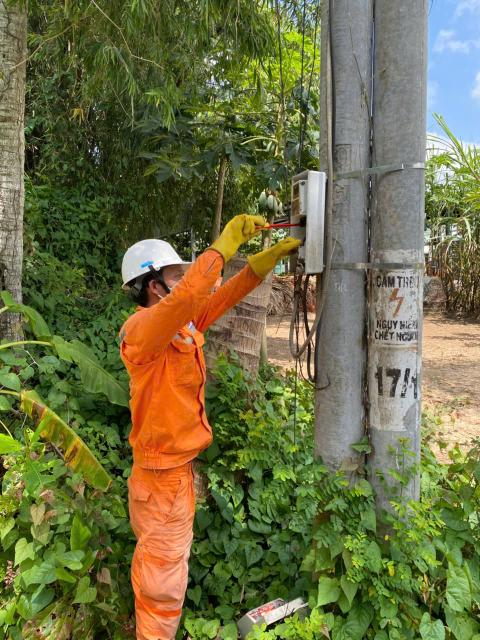gloves: (194, 213, 284, 258), (251, 230, 306, 284)
helmet: (104, 232, 203, 285)
